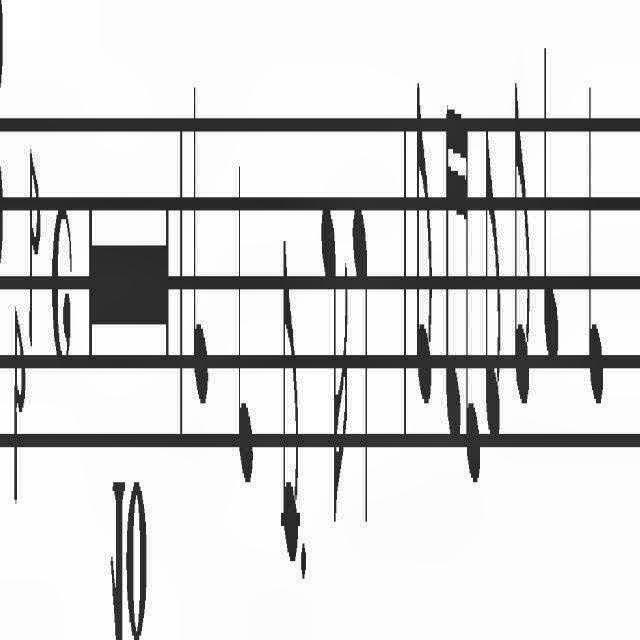Bemol: (12, 298, 26, 518), (28, 143, 42, 349)
Eighth-note: (280, 222, 300, 566), (414, 74, 434, 413), (484, 105, 502, 451), (514, 70, 532, 410)
Quarter-note: (541, 26, 561, 384), (352, 196, 372, 532), (586, 83, 606, 409), (191, 77, 209, 419), (238, 150, 255, 490)
Sixteenth-note: (320, 197, 348, 539), (461, 80, 482, 488), (445, 79, 461, 451)
